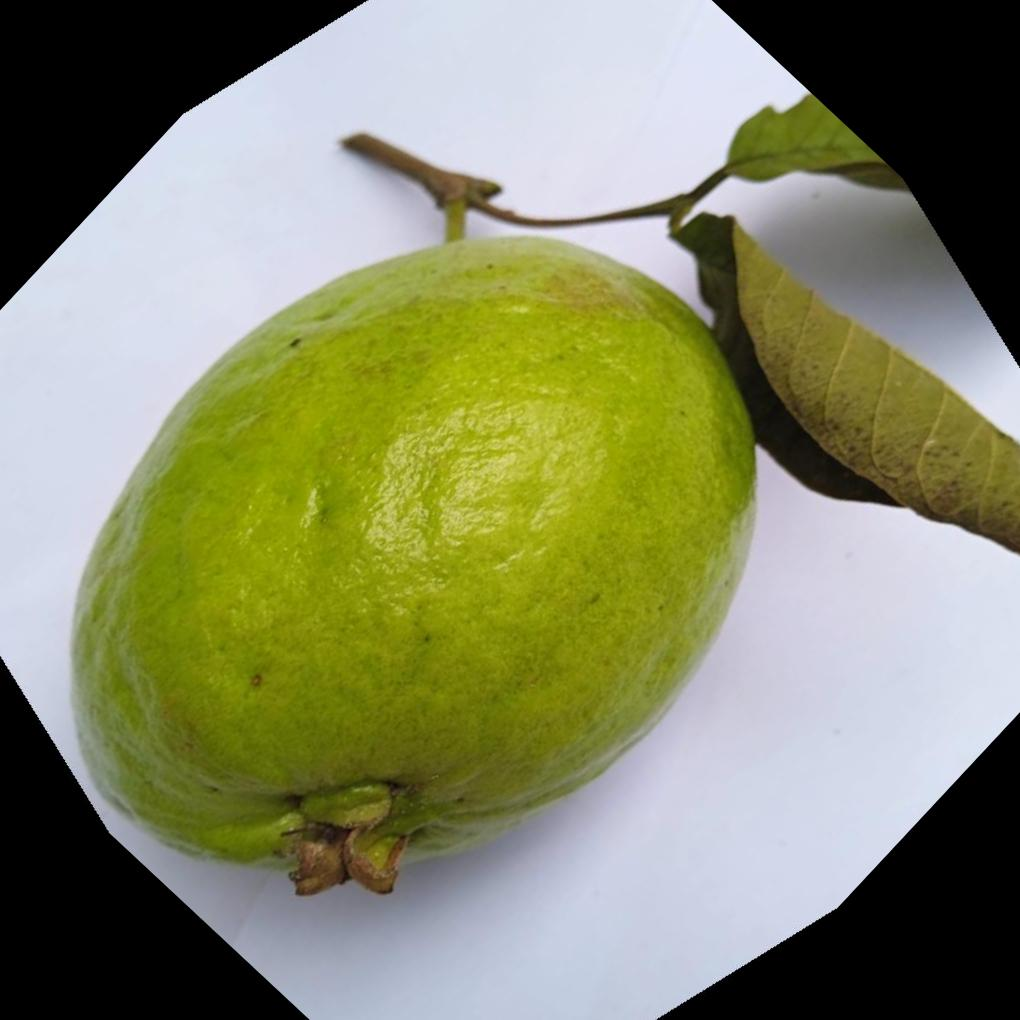FreshGuava: (64, 229, 757, 898)
